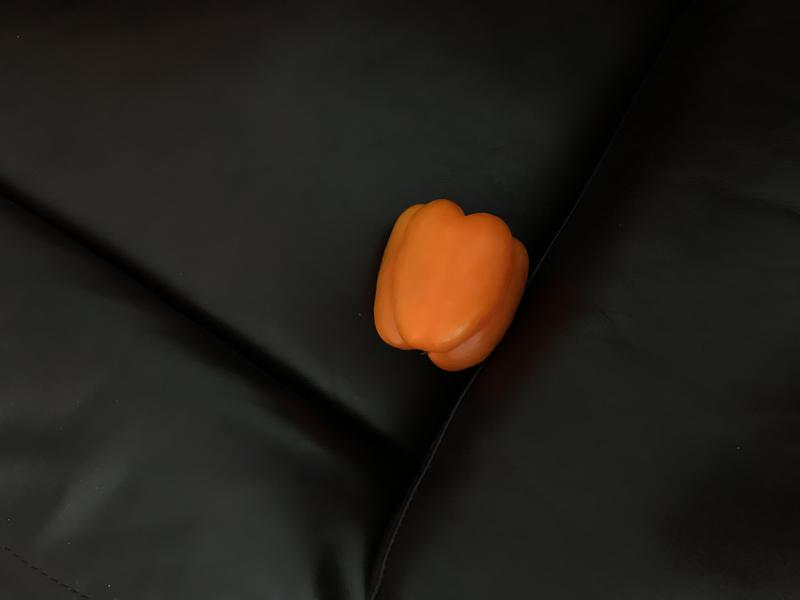orange_pepper: (371, 187, 533, 385)
